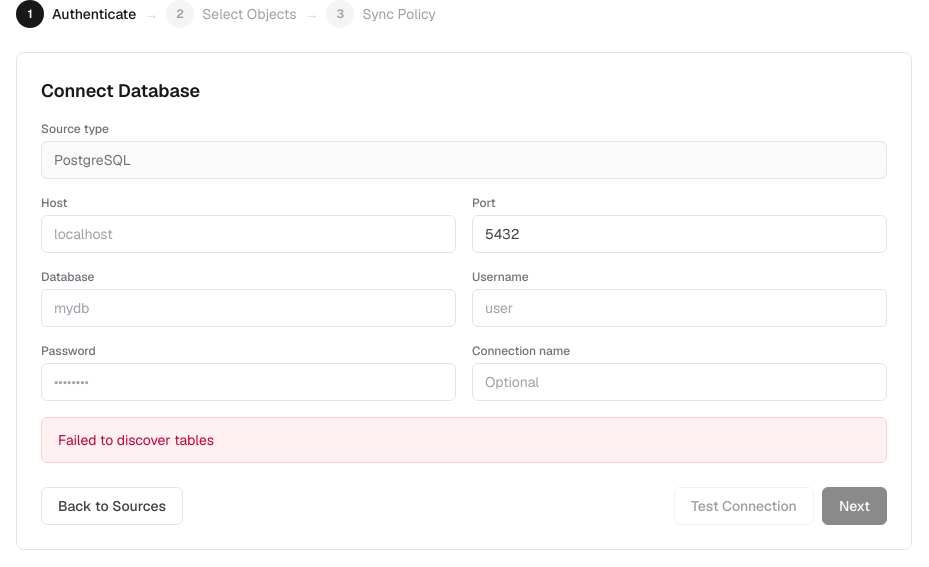
SourceSetupWizard — DB source (postgresql) › shows success badge after test passes
The image size is (929, 567).
Type "host" into the field with placeholder "localhost" at (248,234), box x1=41 y1=215 x2=456 y2=253
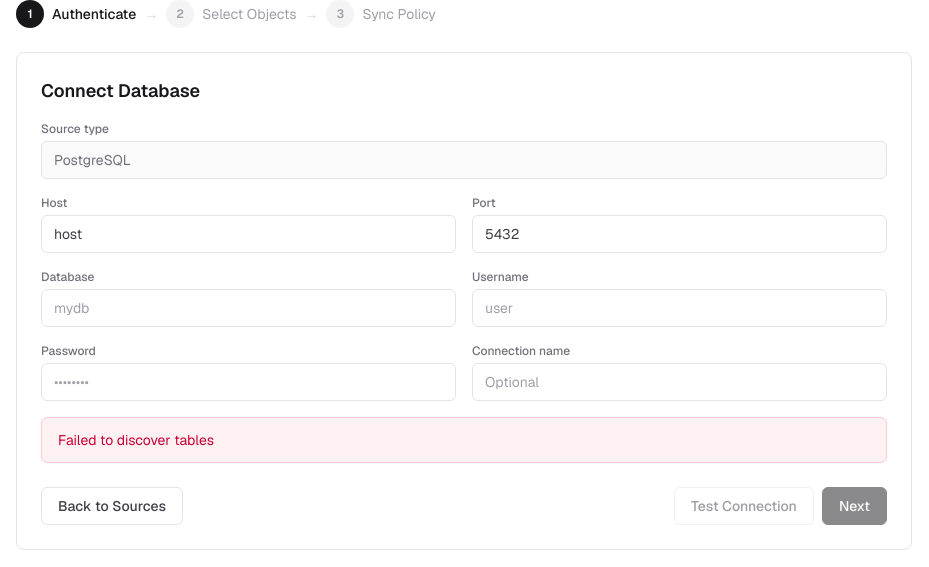
Type "db" into the field with placeholder "mydb" at (248,308), box x1=41 y1=289 x2=456 y2=327
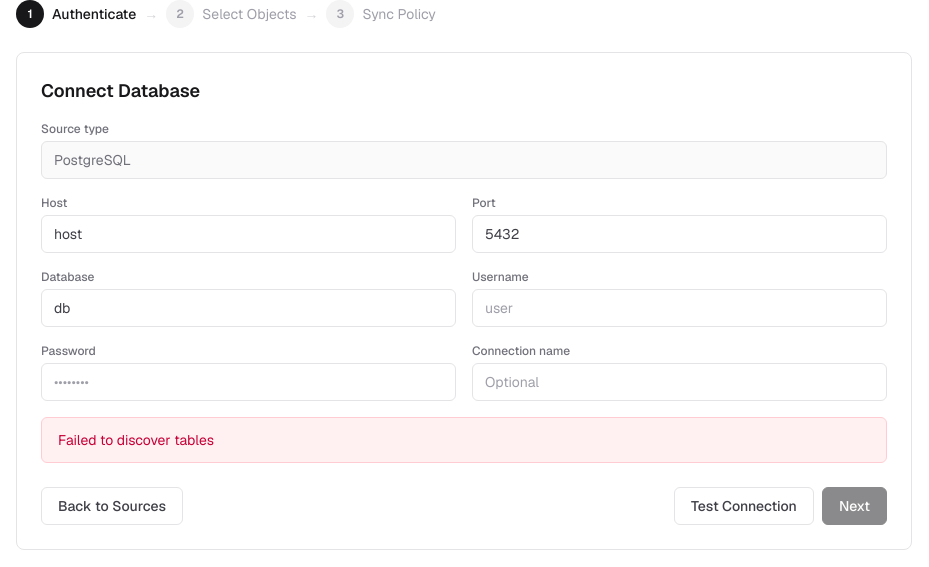
Click the button "Test Connection" at (744,506), box x1=674 y1=487 x2=814 y2=525
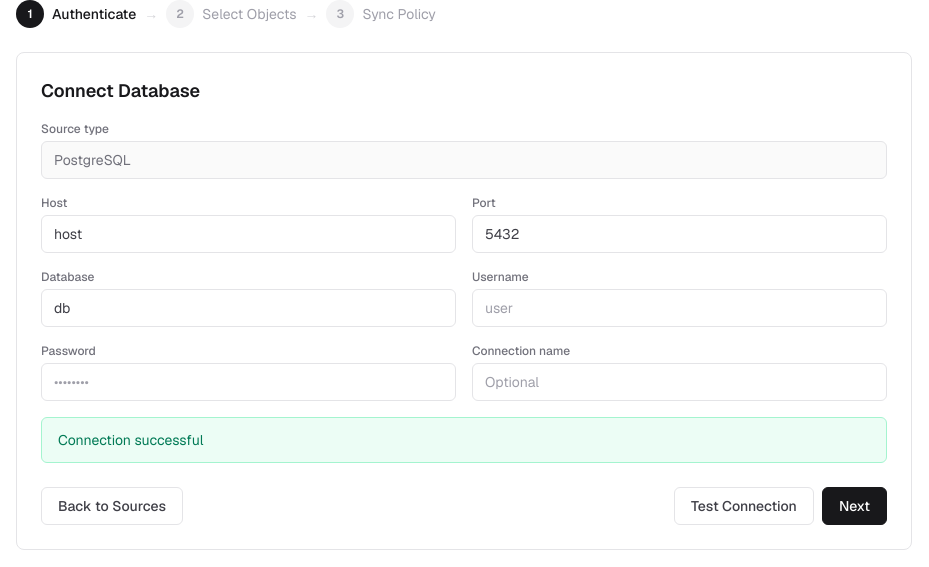
Now the text "Connection successful" is shown, box x1=41 y1=417 x2=887 y2=463
